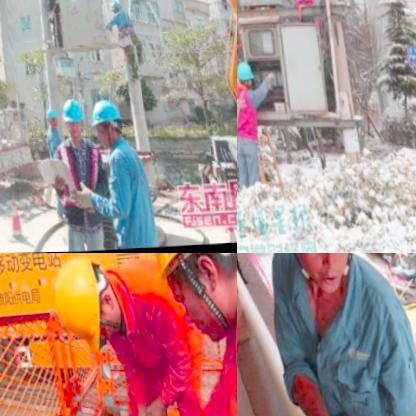helmet: (127, 253, 237, 342), (42, 254, 123, 358), (251, 253, 375, 300), (82, 99, 121, 149), (55, 97, 82, 141), (37, 106, 56, 133), (237, 57, 250, 91), (103, 0, 122, 19)
